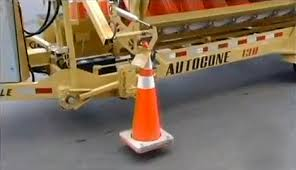cones: (112, 39, 176, 158)
